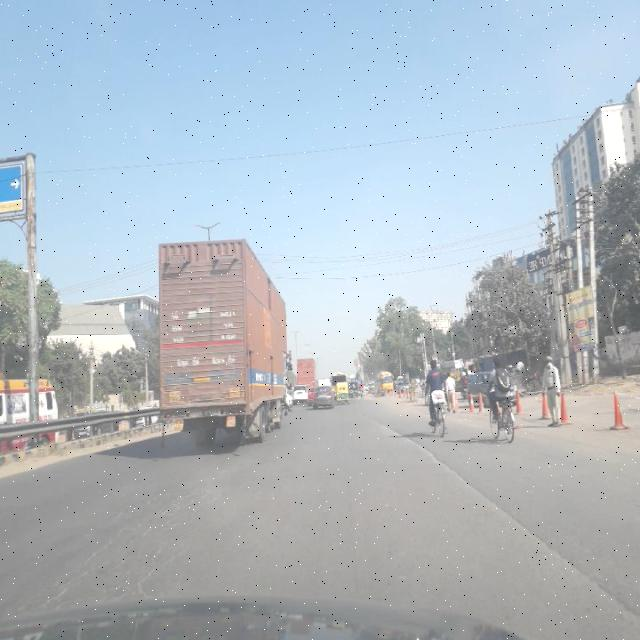D01: (410, 436, 632, 614)
D20: (1, 452, 205, 602)
